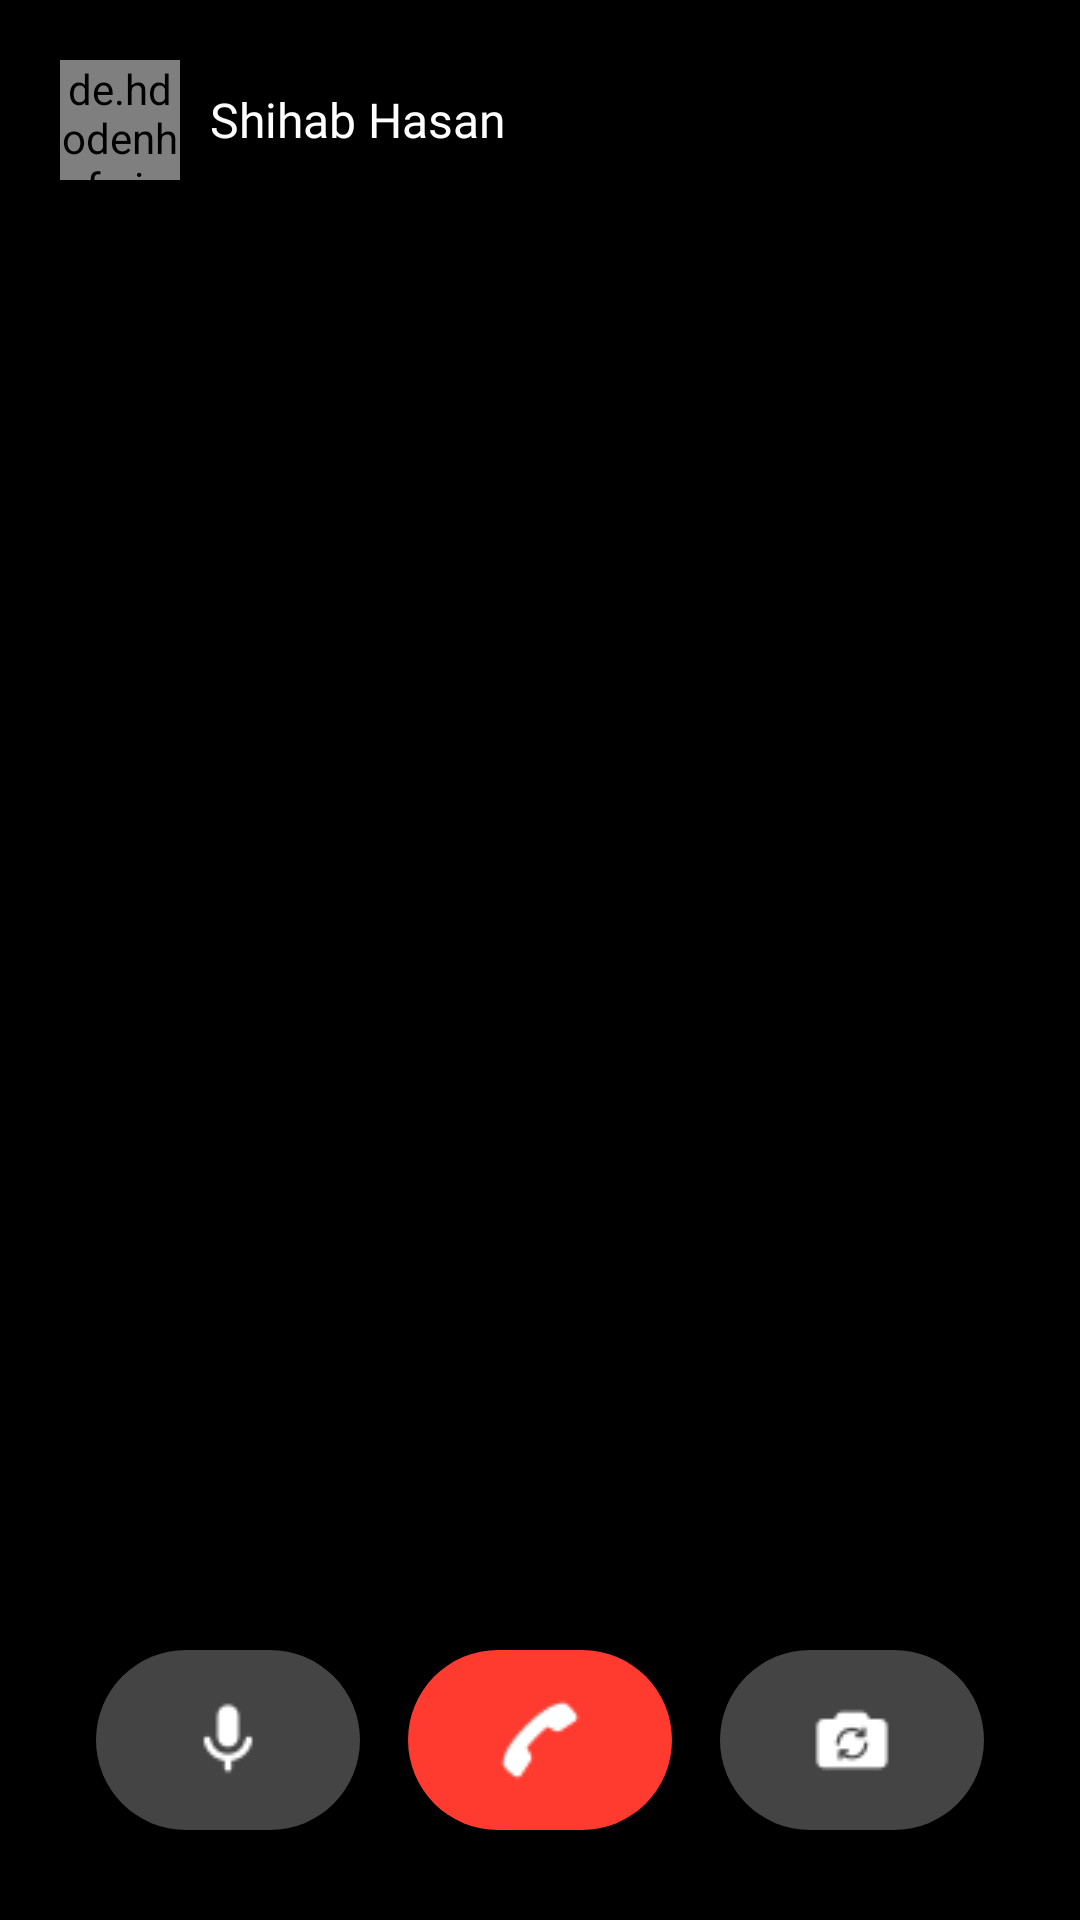

Where icons sit on this 1080×1920 app screen, as (x1, y1, x2, y2):
call drop: (408, 1650, 672, 1830)
camera switch: (720, 1650, 984, 1830)
mic: (96, 1650, 360, 1830)
